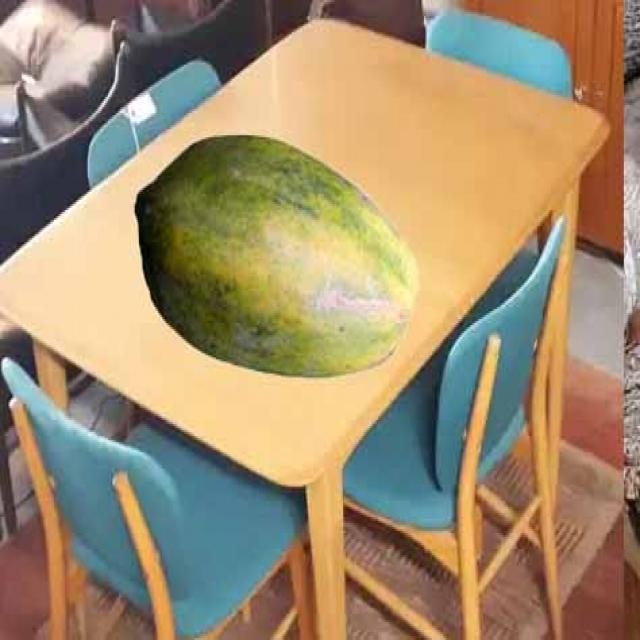Pepaya rippen: (136, 131, 418, 388)
